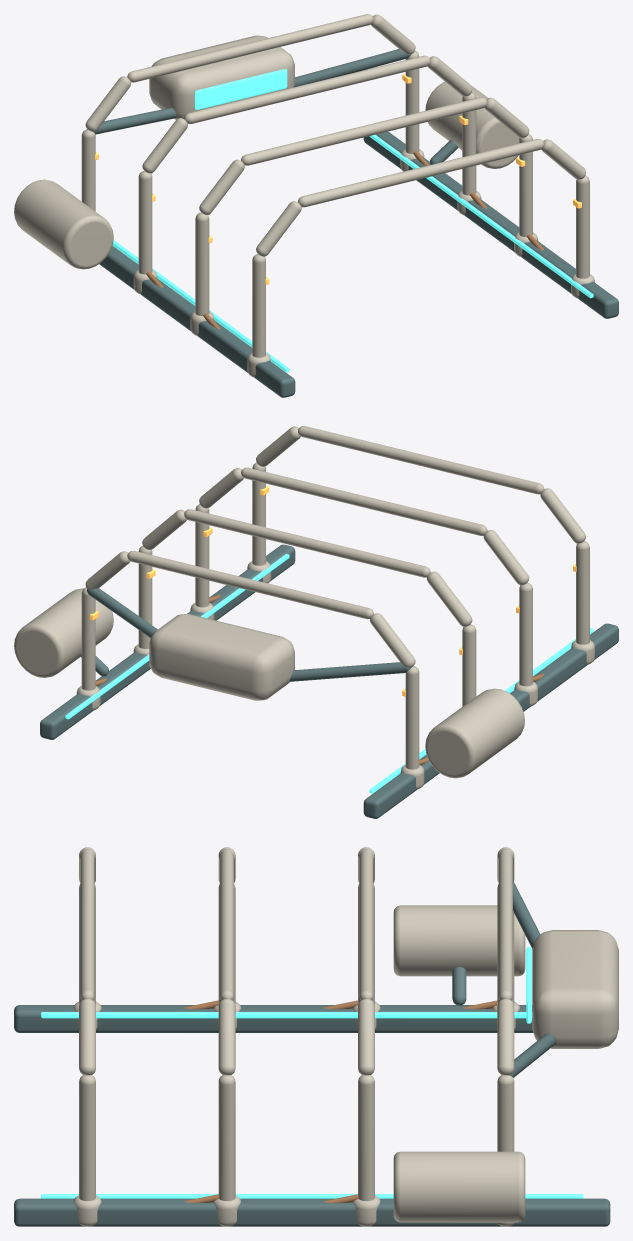
The model's file is shipyard.glb.
3 renders of one model, top to bottom at view 1: azimuth 30°, elevation 25°; view 2: azimuth 150°, elevation 25°; view 3: azimuth 270°, elevation 25°, orthographic. The views are drawn at different scales.
Visible parts, largest first — view 1: Architecture; view 2: Architecture; view 3: Architecture.
Boxes of the visible parts, x1=… form: Architecture: x1=14, y1=14, x2=618, y2=397; Architecture: x1=14, y1=426, x2=618, y2=818; Architecture: x1=14, y1=847, x2=618, y2=1226.
Bounding box in the file's own units: 4.22 × 1.49 × 3.9.
